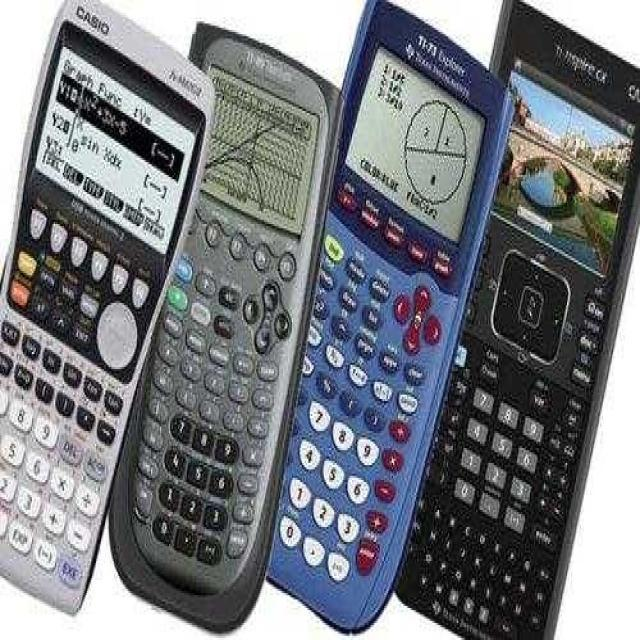Calculator: (269, 0, 509, 629), (110, 21, 338, 629), (0, 0, 214, 610)
